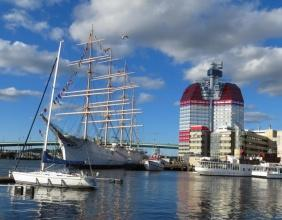fanchuan: (42, 27, 140, 165)
otherboat: (8, 165, 101, 189), (192, 154, 257, 177)
